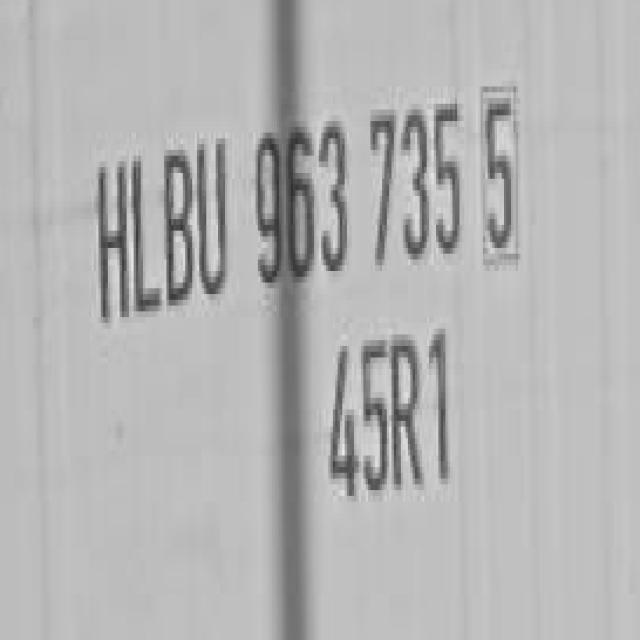dv: (472, 75, 538, 297)
owner: (88, 104, 240, 340)
serial: (250, 59, 464, 303)
size: (314, 316, 466, 532)
